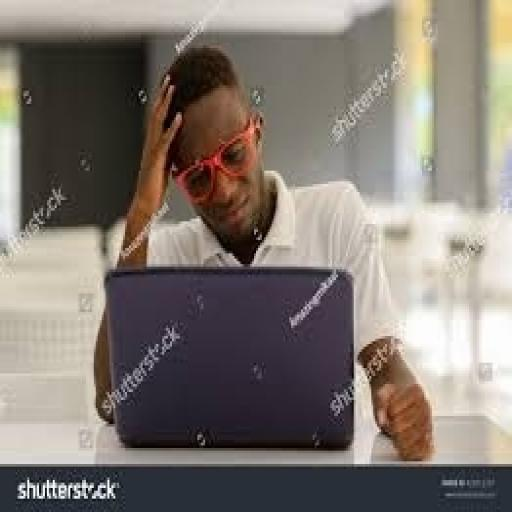using_laptop: (102, 261, 356, 451)
